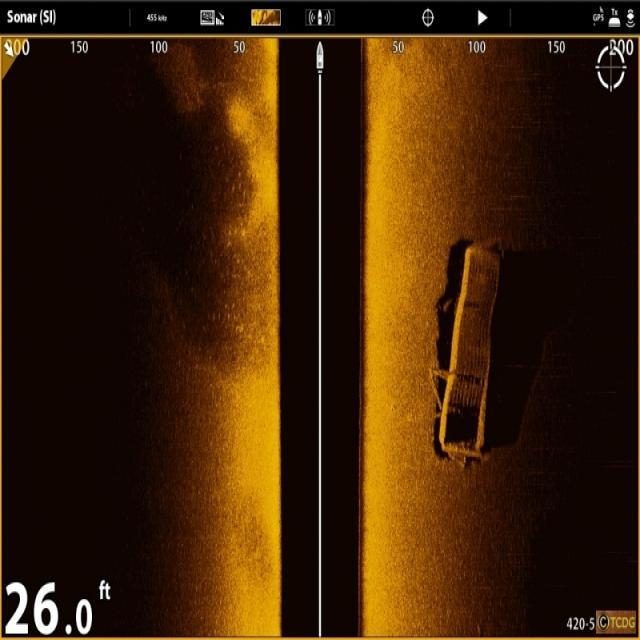shipwreck: (434, 243, 498, 470)
